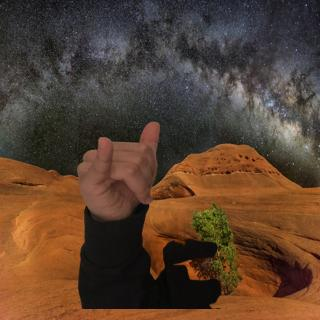HAVE: (65, 113, 171, 233)
